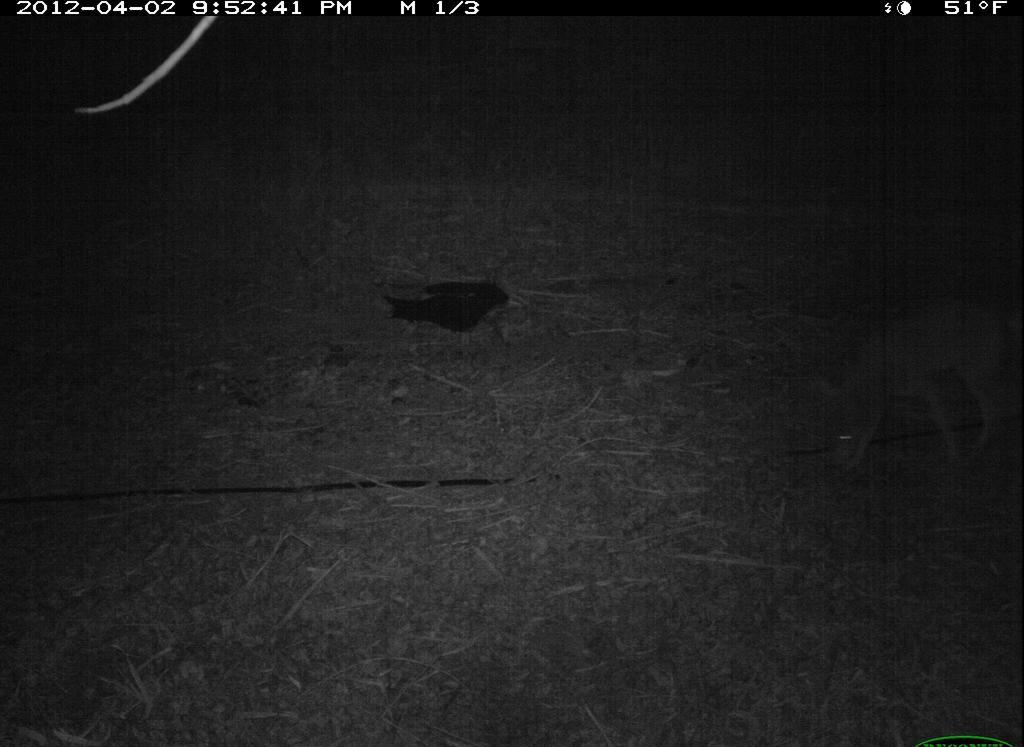coyote: (798, 274, 1013, 504)
